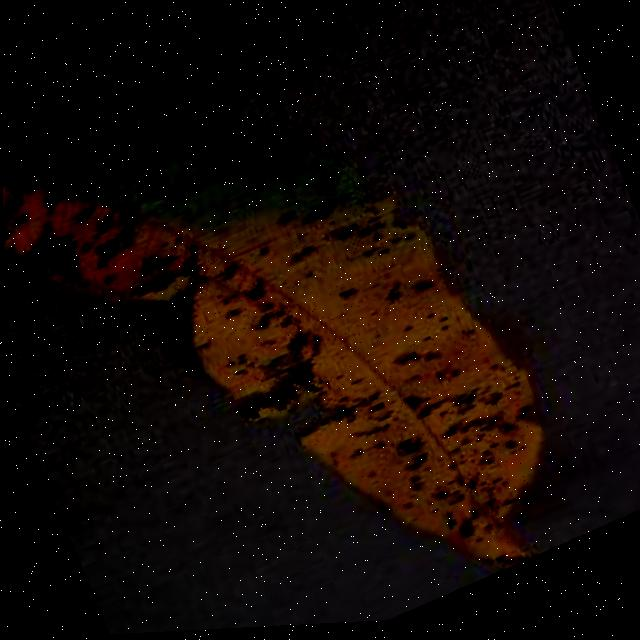Bacterial_spot: (0, 0, 593, 640)
